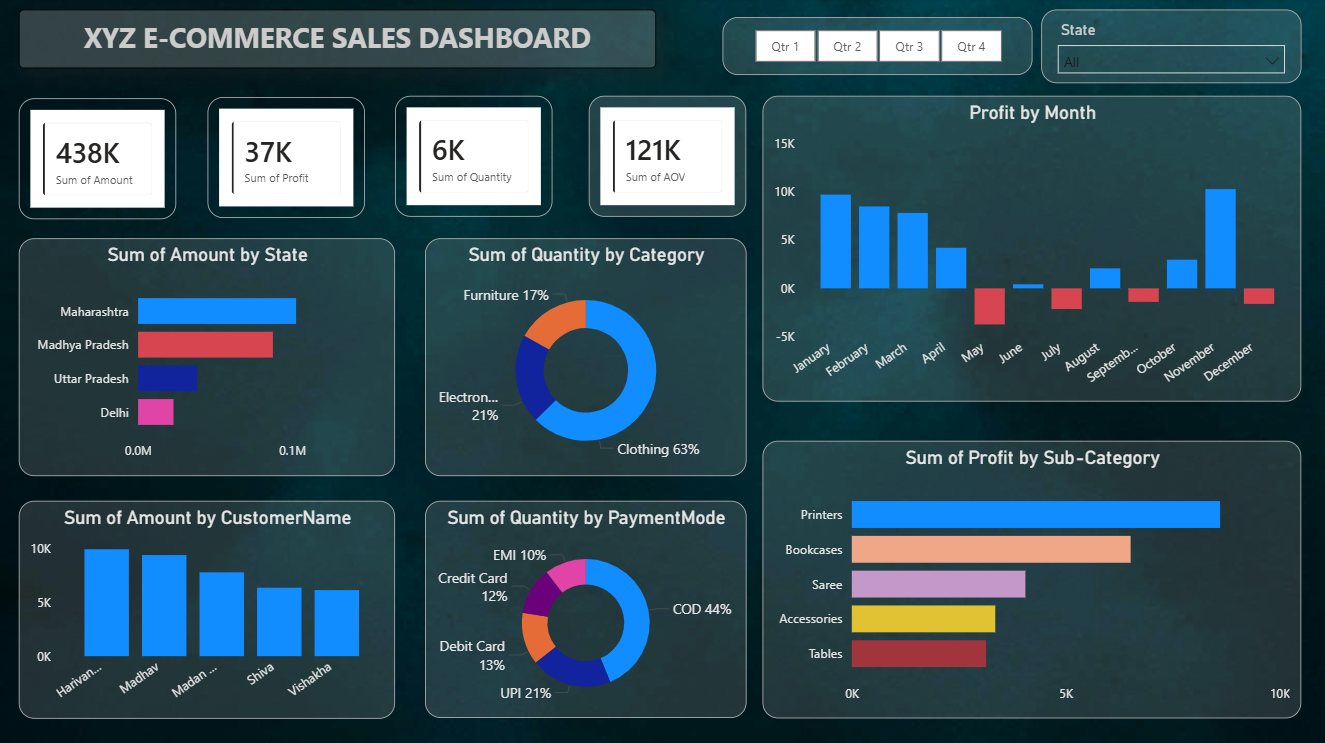

The page's visual inventory and layout, read from the dashboard file:
{"tool":"powerbi","page":{"name":"Page 1","canvas":[1280,720],"ordinal":0},"visuals":[{"type":"textbox","title":"ced","box":[18.1,12.1,615.3,56.7],"z":0},{"type":"columnChart","title":" Profit by Month","fields":{"Category":["Orders.Order Date.Variation.Date Hierarchy.Month"],"Y":["Sum(Details.Profit)"]},"box":[735.9,95.3,520,295.6],"z":1000},{"type":"barChart","fields":{"Category":["Details.Sub-Category"],"Y":["Sum(Details.Profit)"]},"box":[735.9,428.3,520,267.8],"z":2000},{"type":"donutChart","fields":{"Y":["Sum(Details.Quantity)"],"Category":["Details.PaymentMode"]},"box":[410.2,486.2,310.1,209.9],"z":3000},{"type":"donutChart","fields":{"Category":["Details.Category"],"Y":["Sum(Details.Quantity)"]},"box":[410.2,232.8,310.1,229.2],"z":4000},{"type":"cardVisual","fields":{"Data":["Sum(Details.Amount)"]},"box":[18.1,97.7,152,117],"z":5000},{"type":"cardVisual","fields":{"Data":["Sum(Details.Profit)"]},"box":[200.3,96.5,152,117],"z":6000},{"type":"cardVisual","fields":{"Data":["Sum(Details.AOV)"]},"box":[568.2,95.3,152,117],"z":7000},{"type":"cardVisual","fields":{"Data":["Sum(Details.Quantity)"]},"box":[381.2,95.3,152,117],"z":8000},{"type":"barChart","fields":{"Category":["Orders.State"],"Y":["Sum(Details.Amount)"]},"box":[18.1,232.8,363.1,229.2],"z":9000},{"type":"columnChart","fields":{"Category":["Orders.CustomerName"],"Y":["Sum(Details.Amount)"]},"box":[18,486,363,210],"z":10000},{"type":"slicer","fields":{"Values":["Orders.Order Date.Variation.Date Hierarchy.Quarter"]},"box":[697.1,19.2,299.1,56.3],"z":11000},{"type":"slicer","fields":{"Values":["Orders.State"]},"box":[1004.5,12.3,251.1,71.4],"z":12000}]}

Visuals, with their boxes in screenshot pixels (x1, y1, x2, y2), scaled from the page's 1280x720 canvas onto the 1325x743 screenshot:
"ced" textbox: [19, 12, 656, 71]
" Profit by Month" columnChart: [762, 98, 1300, 403]
barChart - Details.Sub-Category x Sum(Details.Profit): [762, 442, 1300, 718]
donutChart - Sum(Details.Quantity) x Details.PaymentMode: [425, 502, 746, 718]
donutChart - Details.Category x Sum(Details.Quantity): [425, 240, 746, 477]
cardVisual - Sum(Details.Amount): [19, 101, 176, 222]
cardVisual - Sum(Details.Profit): [207, 100, 365, 220]
cardVisual - Sum(Details.AOV): [588, 98, 746, 219]
cardVisual - Sum(Details.Quantity): [395, 98, 552, 219]
barChart - Orders.State x Sum(Details.Amount): [19, 240, 395, 477]
columnChart - Orders.CustomerName x Sum(Details.Amount): [19, 502, 394, 718]
slicer - Orders.Order Date.Variation.Date Hierarchy.Quarter: [722, 20, 1031, 78]
slicer - Orders.State: [1040, 13, 1300, 86]
